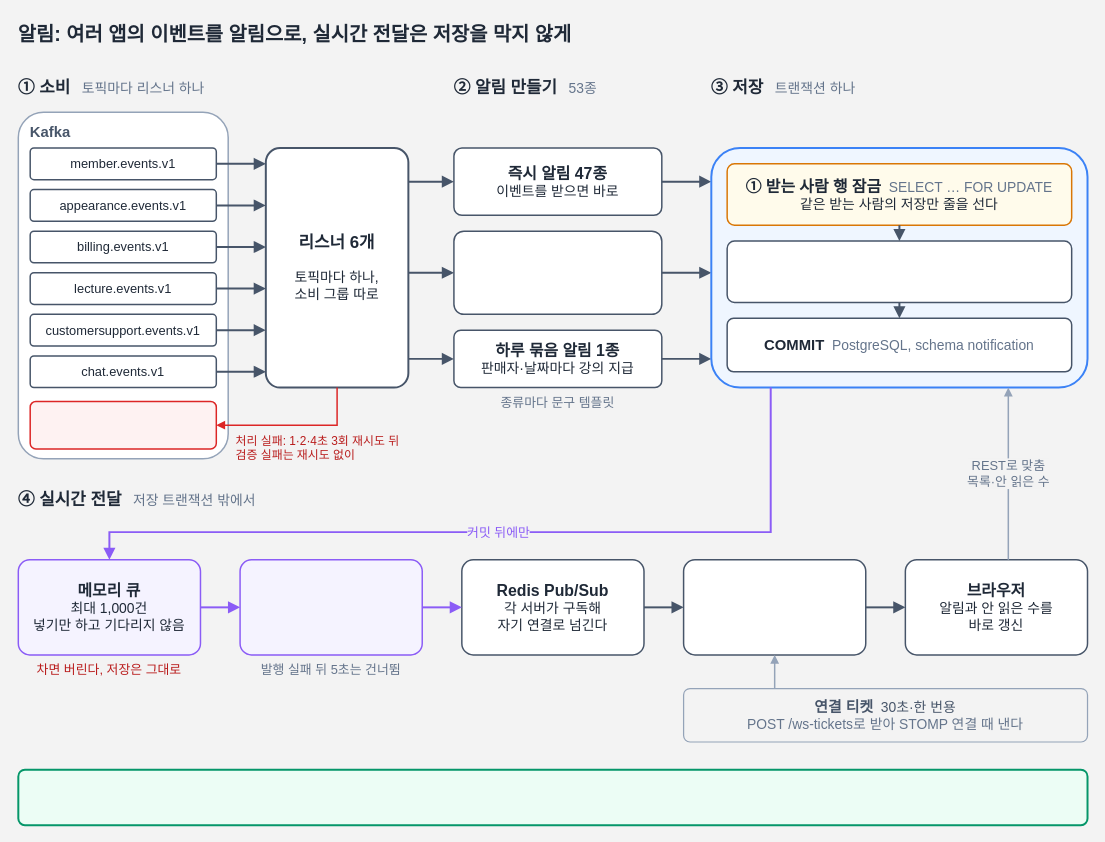
This 1105x842 diagram has some shape labels left out. The centre of each missing label's shape, as x and y in pixels:
"DLT 토픽 <토픽>.<그룹>.DLT" belongs at point (123, 424).
"STOMP /user/queue/notifications" belongs at point (774, 607).
"② 알림 저장, 최신 20개만 남김 21번째부터 Soft Delete" belongs at point (899, 271).
"격리 환경: 저장 → 수신 p95 11.5 ms, 유실 0/6,000 · 밀린 이벤트 10,000건을 40.1초에 회복, 큐 버림 0건" belongs at point (552, 797).
"발행 스레드 1개 최대 100건씩 꺼내 DB를 한 번에 읽고 발행" belongs at point (331, 607).
"예약 알림 5종 이벤트로 예약을 만들고 매분 배치가 시각이 되면" belongs at point (557, 272).
